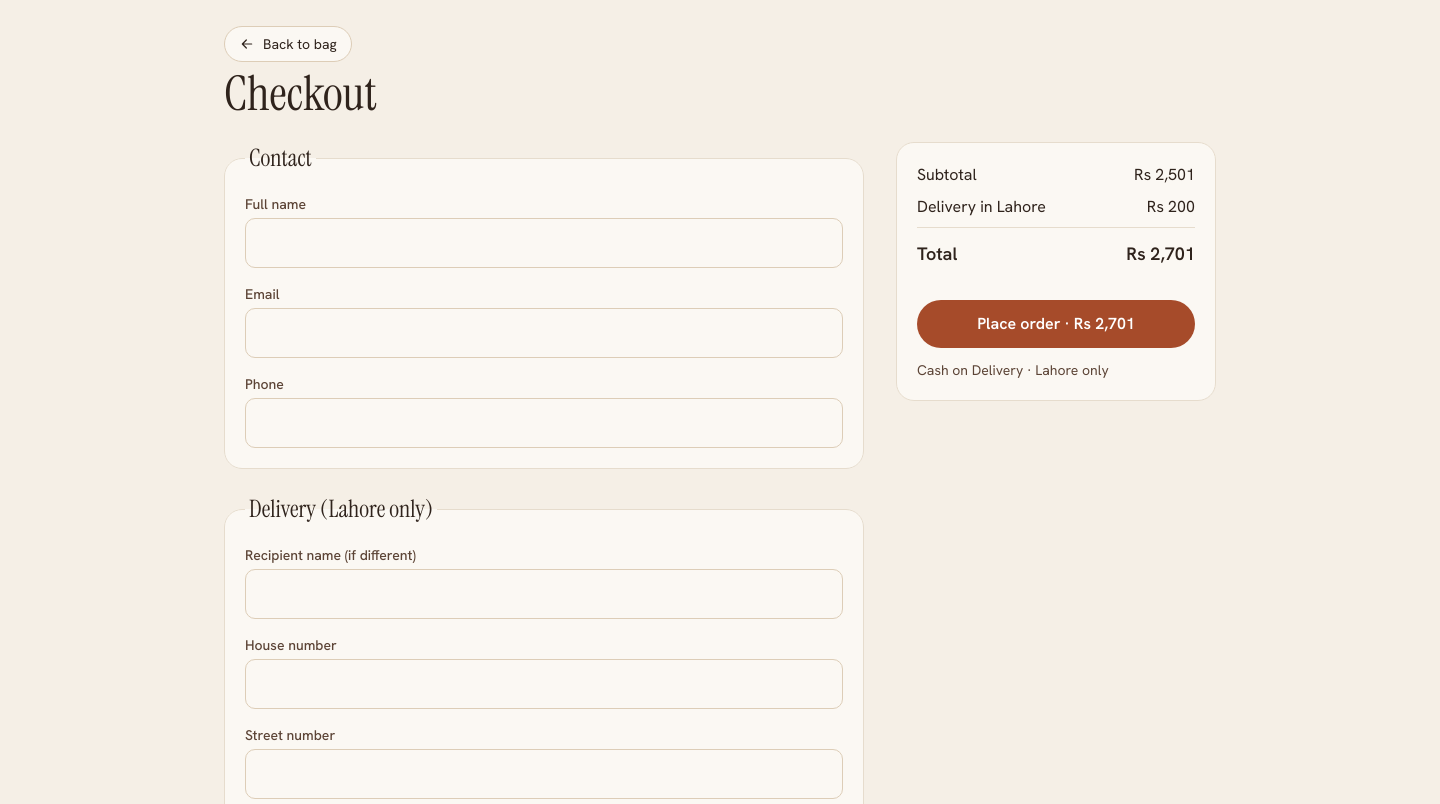
Scenario: shows the new total when it changed and keeps the cart
In the field labelled "Full name": (544, 243) [245,218,843,268], type "Ayesha Khan"
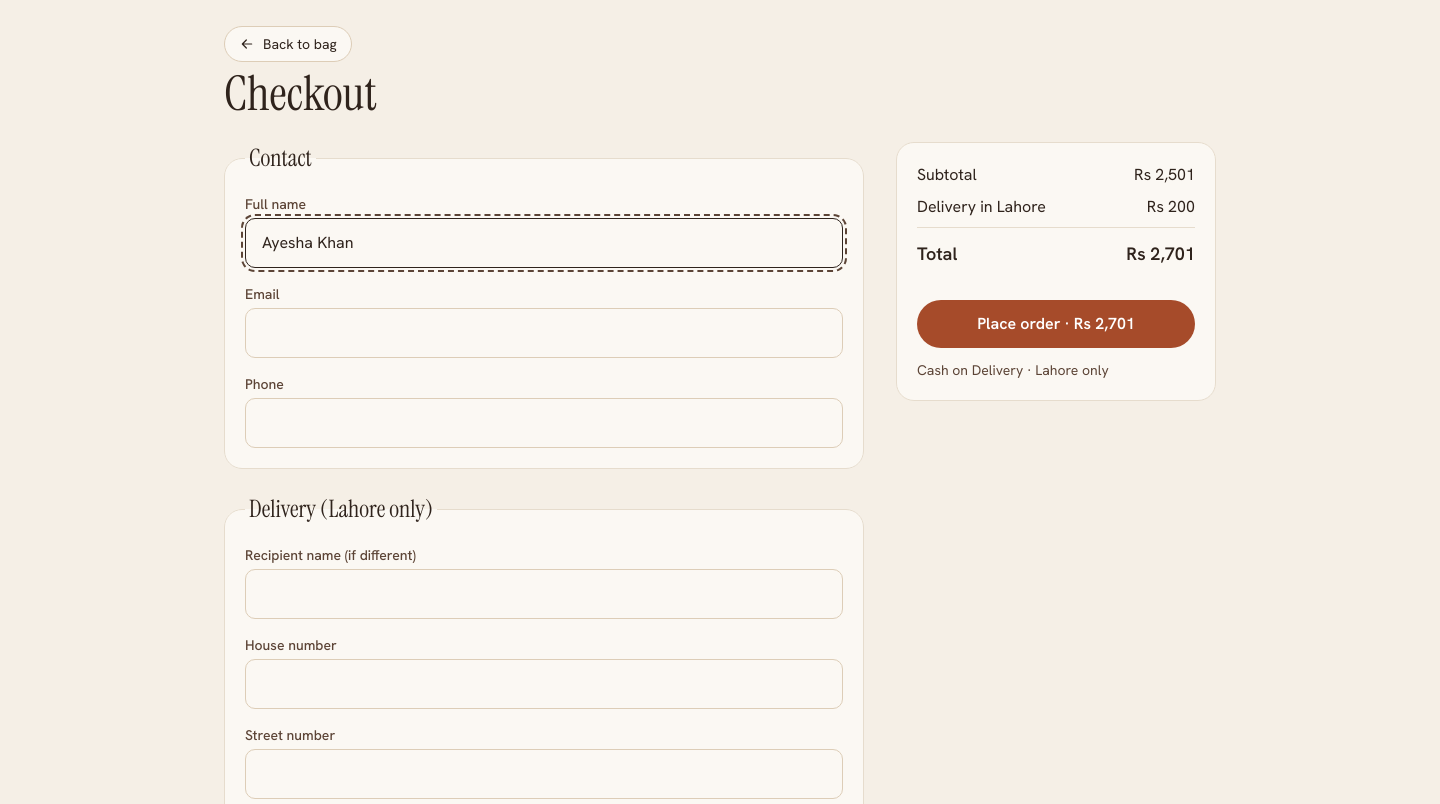
In the field labelled "Email": (544, 333) [245,308,843,358], type "a@example.com"
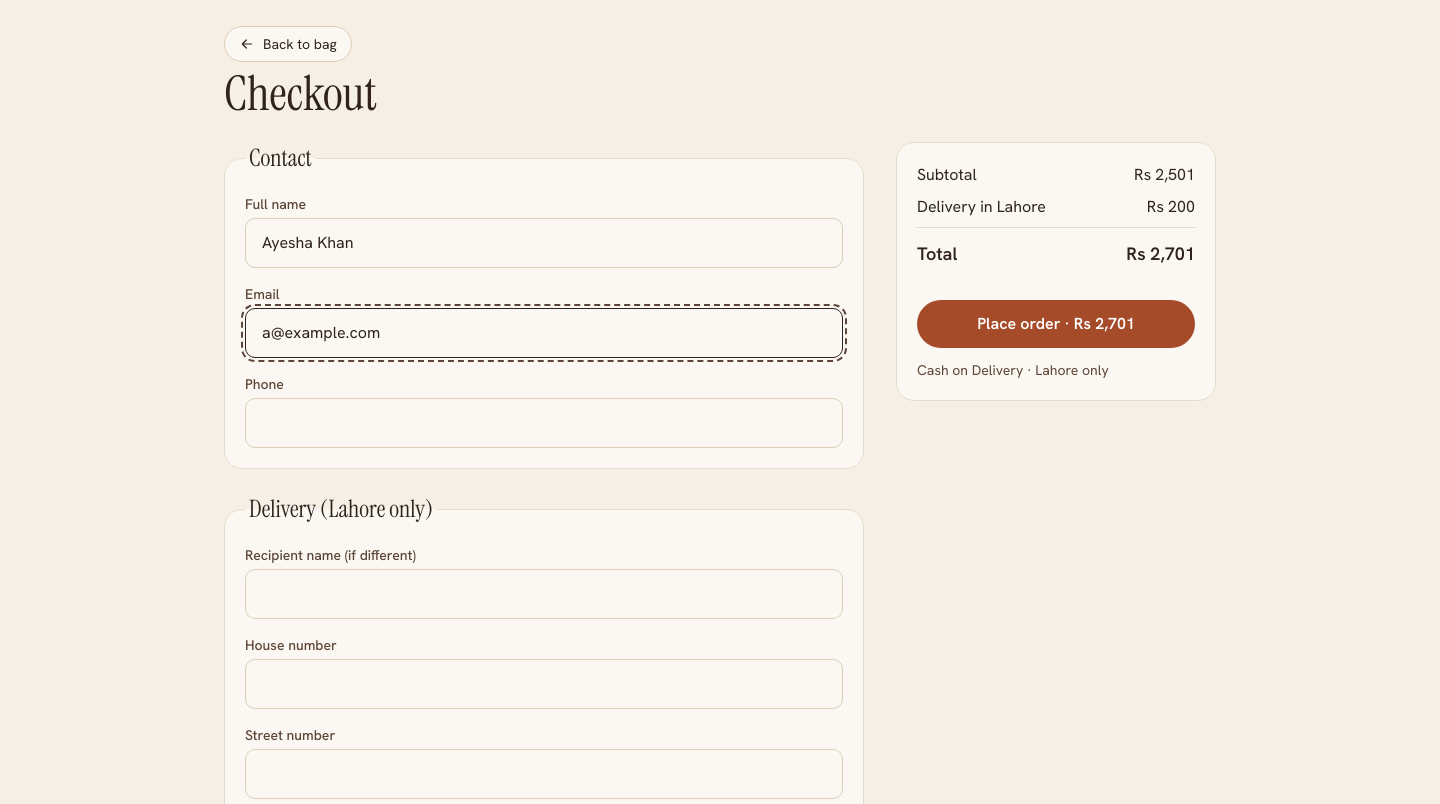
In the field labelled "House number": (544, 684) [245,659,843,709], type "12-B"
(page scrolled)
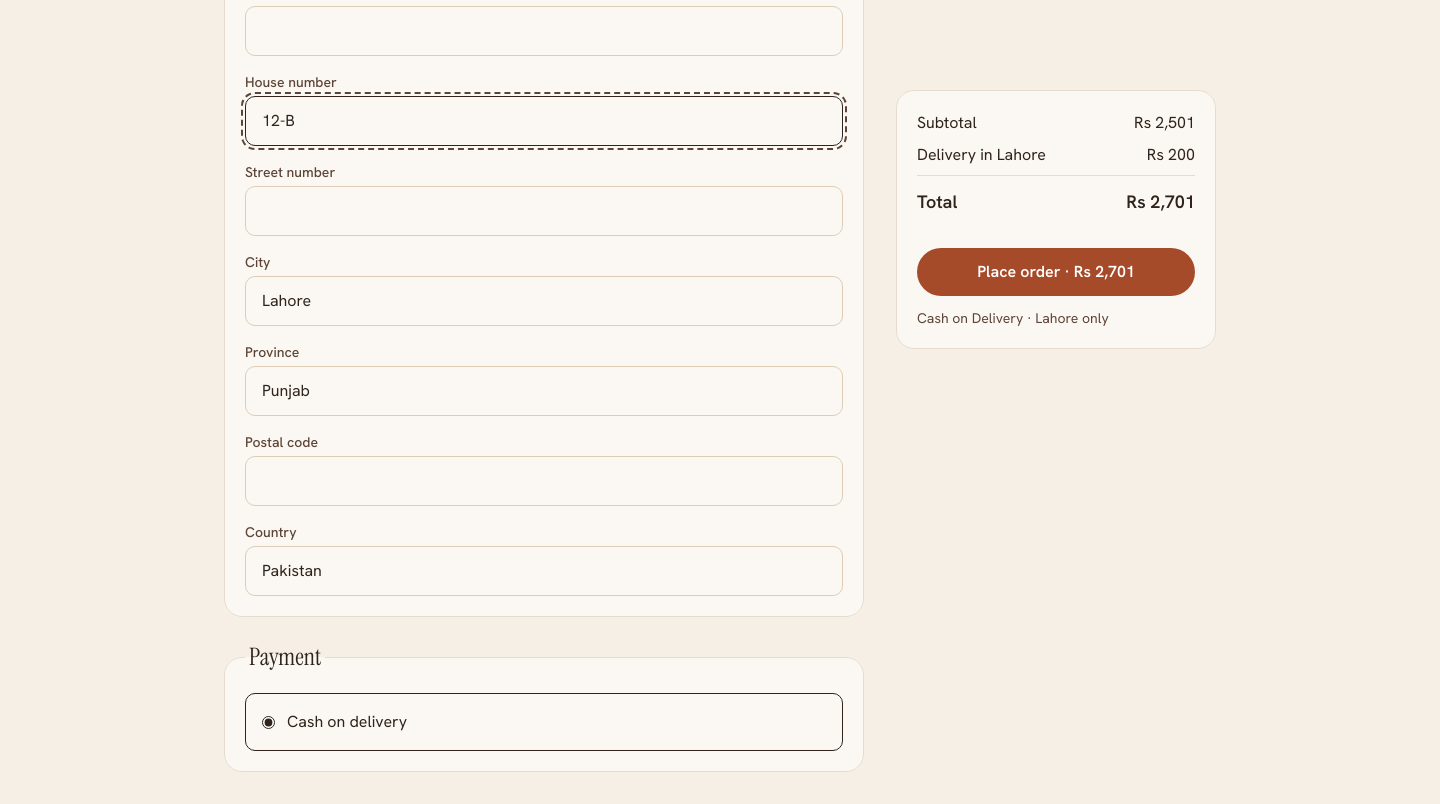
In the field labelled "Postal code": (544, 481) [245,456,843,506], type "54000"
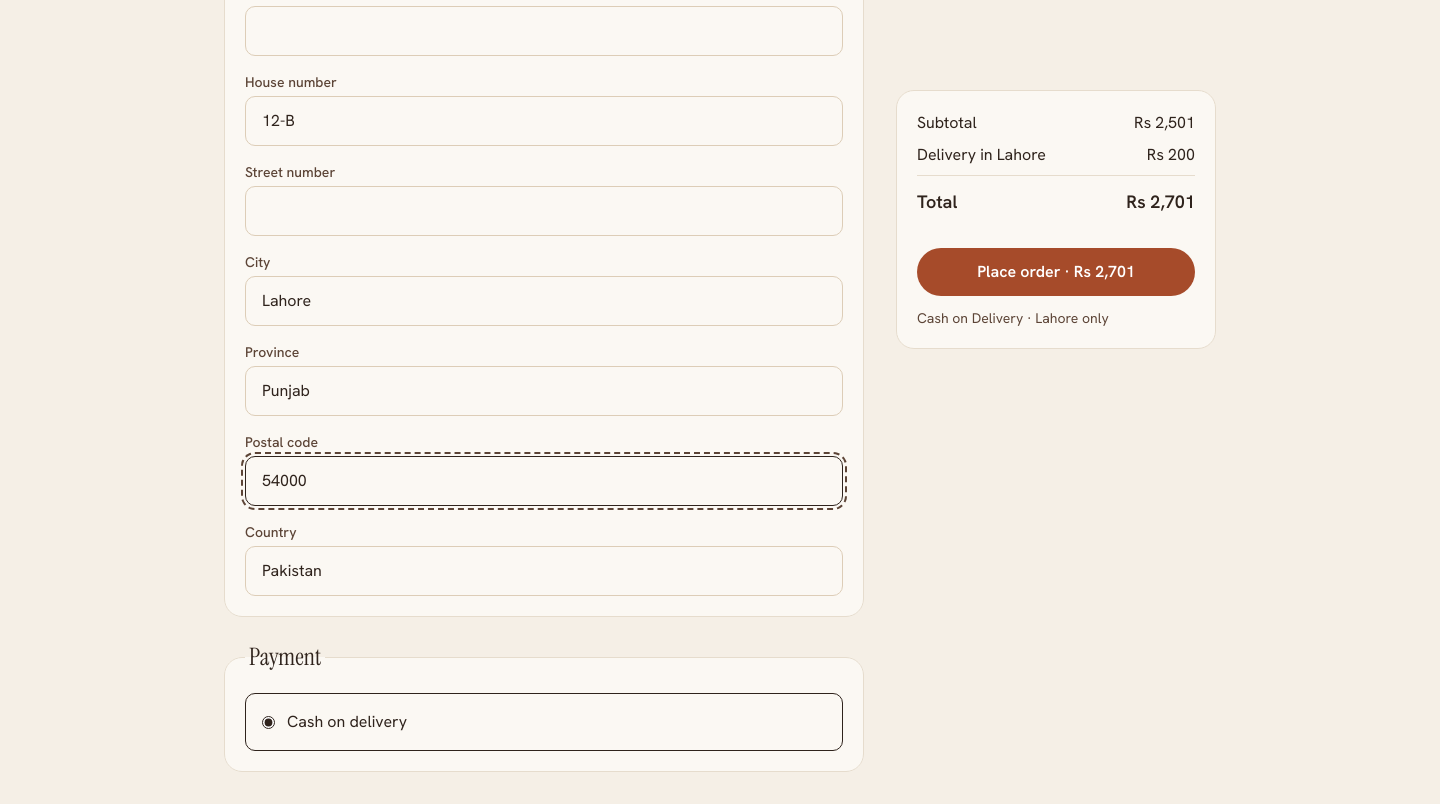
Click the button "Place order · Rs 2,701": (1056, 272) [917,248,1195,296]
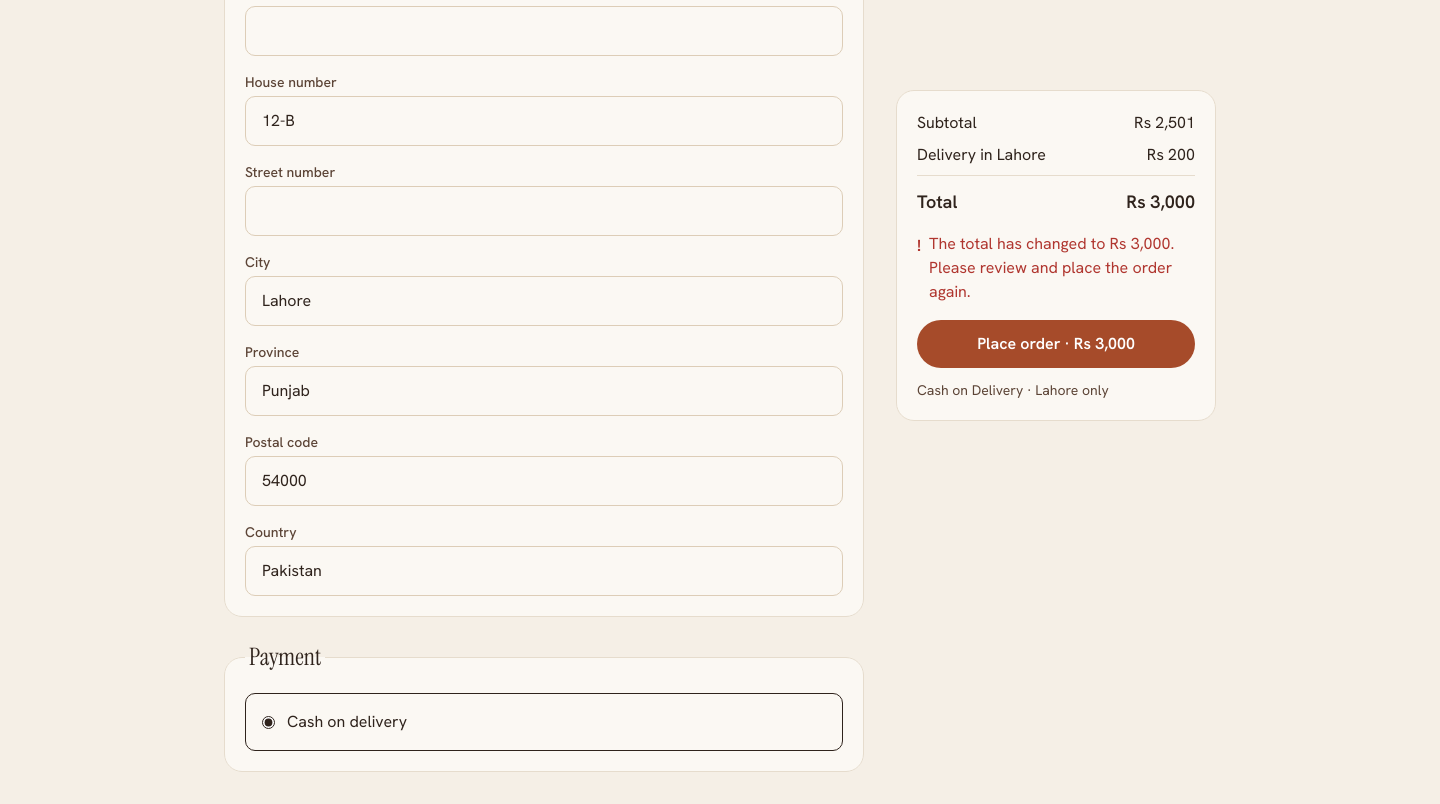
Expected: the message shows "The total has changed to Rs 3,000", [929,233,1174,302]
